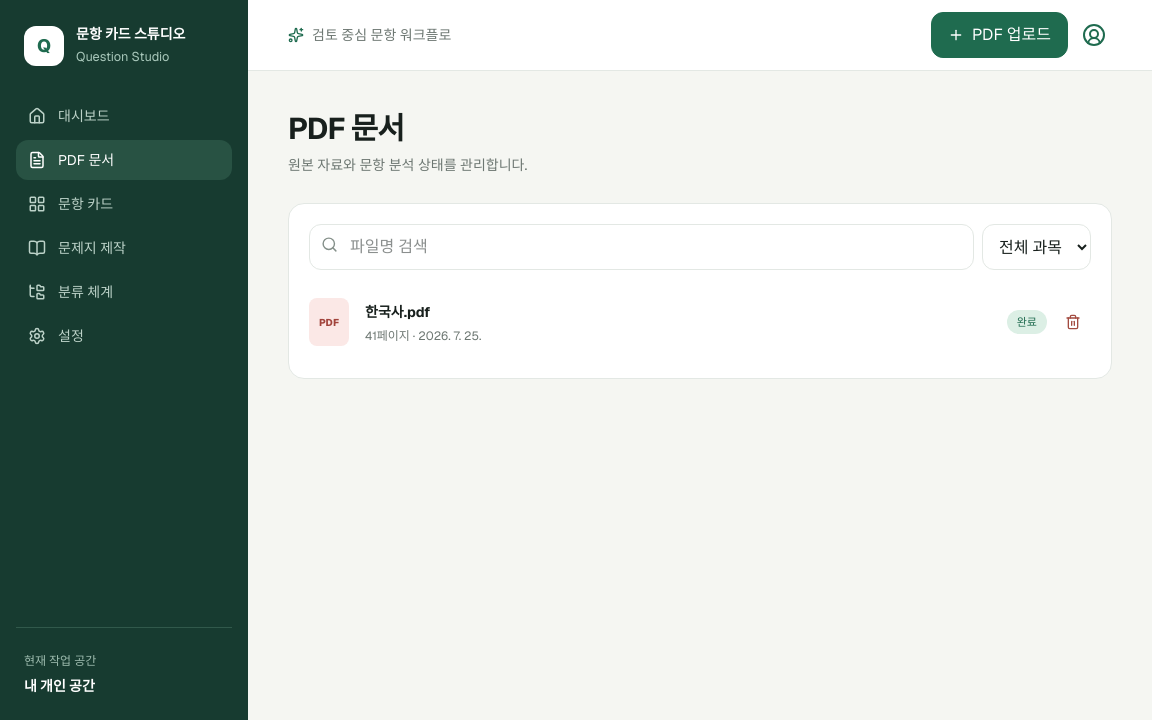
WorkspacePage local storage UI › deletes a PDF document after confirmation
This screenshot has width=1152, height=720.
Step 1. Click the button named "한국사.pdf 삭제" → click(1073, 322), box [1055, 304, 1091, 340]
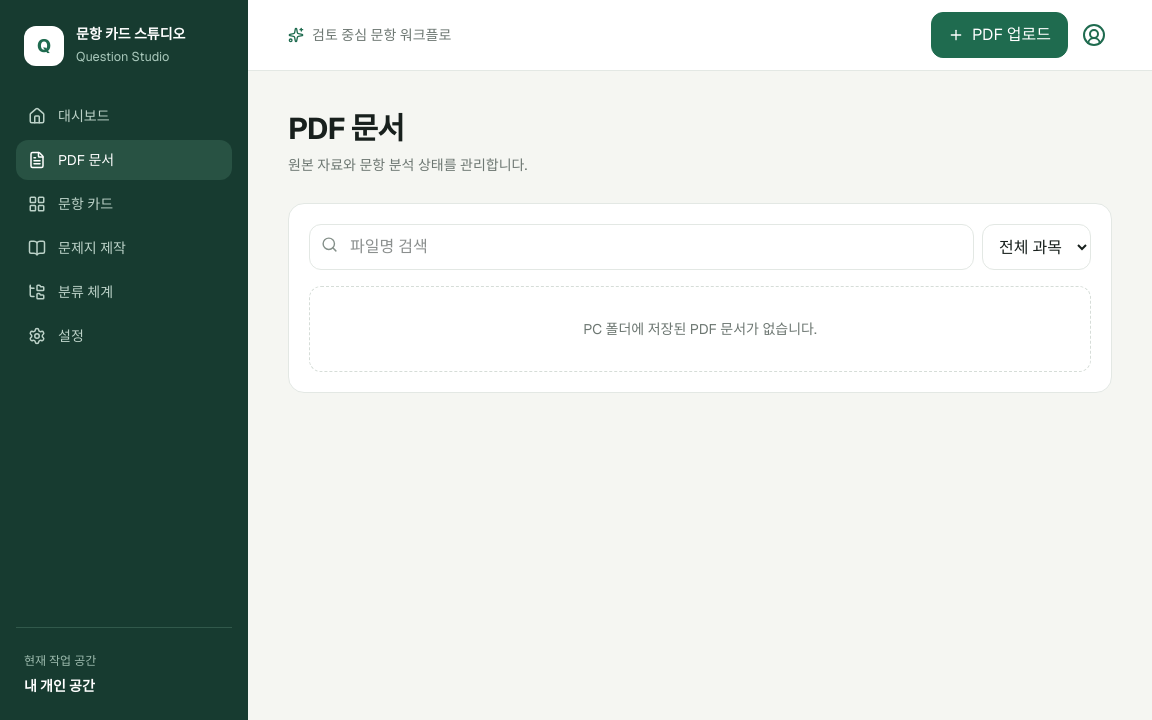
Now the link "한국사.pdf" is gone
